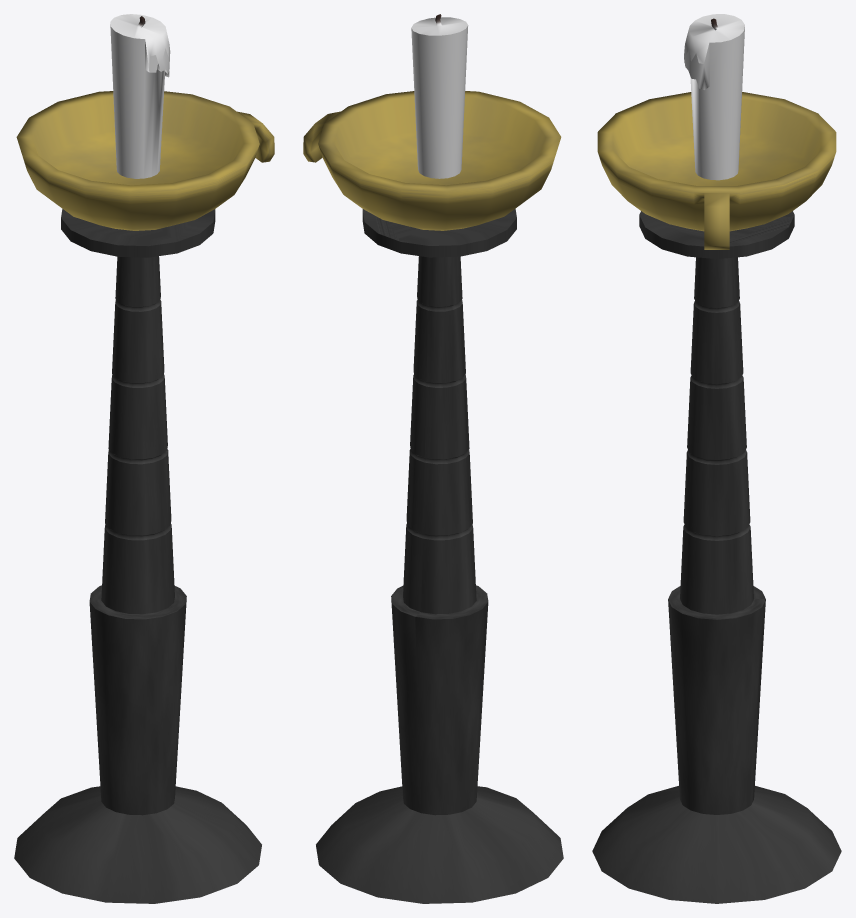
The model's file is candlestickL.obj.
3 views of the same model, side by side, from view 1: azimuth 30°, elevation 25°; view 2: azimuth 150°, elevation 25°; view 3: azimuth 270°, elevation 25° (orthographic).
Visible parts, largest first — view 1: 円柱; view 2: 円柱; view 3: 円柱.
Boxes of the visible parts, x1,y1,x2,y2 form: 円柱: (14, 14, 274, 903); 円柱: (303, 14, 563, 903); 円柱: (592, 14, 841, 903).
Bounding box in the file's own units: 1.03 × 3.44 × 0.9336.
3 materials, 3 textured.
